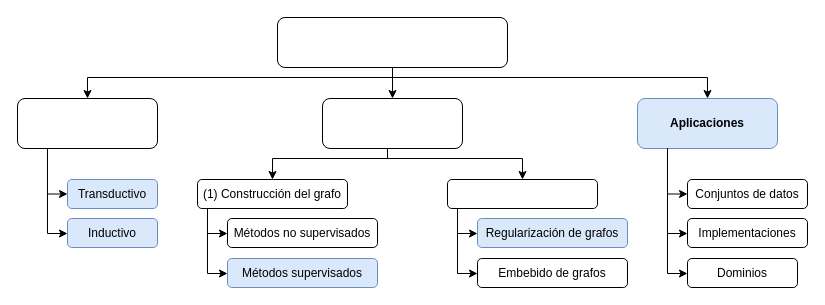
The diagram is 825 pixels wide and 305 high, and some of its shapes have lost their labels. Here are the shapes that lost their labels. From the top down, the centre of each, then its label:
At point (392, 42): "Aprendizaje semi-supervisado basado en grafos".
At point (87, 123): "Tipo de método".
At point (392, 123): "Solución".
At point (522, 193): "(2) Inferencia de etiquetas".
